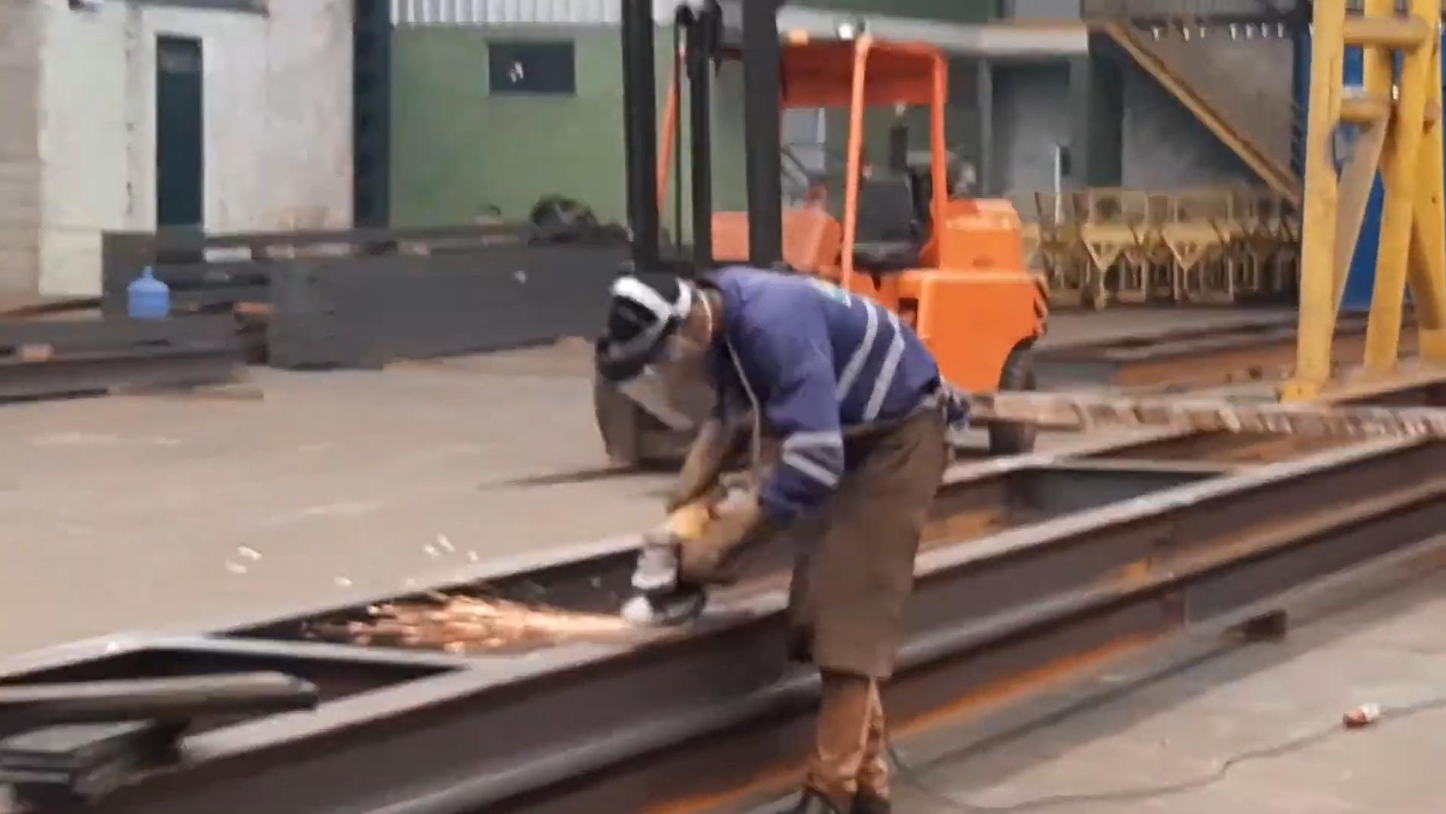gloves: (676, 500, 777, 585)
vest: (696, 274, 962, 499)
